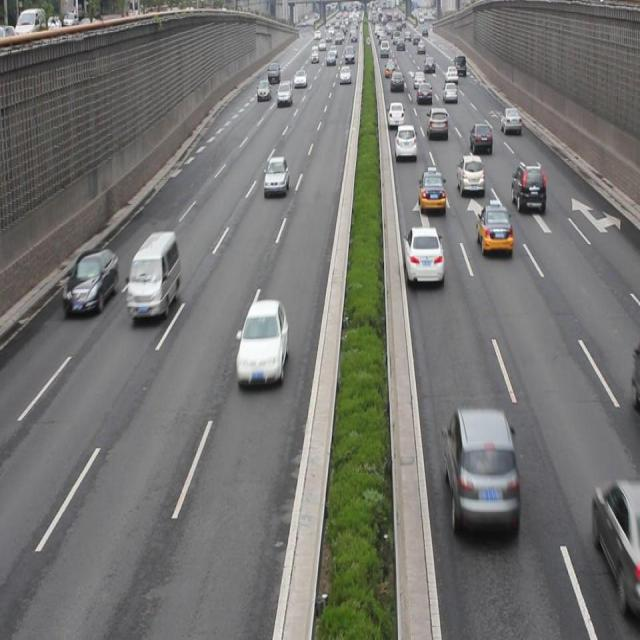car: (443, 405, 518, 537), (590, 477, 640, 609), (235, 298, 287, 388), (64, 246, 118, 316), (404, 224, 442, 286), (476, 203, 512, 257), (511, 163, 544, 213), (418, 168, 445, 214), (456, 155, 483, 196), (263, 155, 288, 197), (393, 122, 416, 161), (426, 106, 448, 141), (469, 122, 492, 154), (500, 105, 521, 134), (387, 101, 404, 129)
truck: (127, 229, 179, 321)
